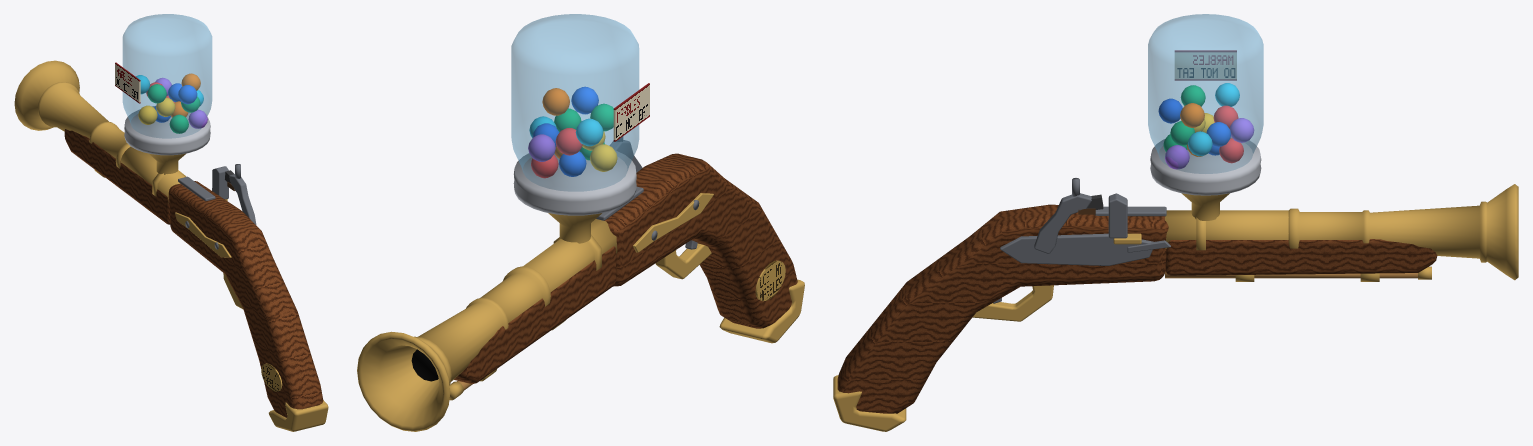
File: w_marbles.glb
3 views of the same model, side by side, from view 1: azimuth 30°, elevation 25°; view 2: azimuth 150°, elevation 25°; view 3: azimuth 270°, elevation 25° (orthographic). The views are drawn at different scales.
Parts seen in each view (by area): view 1: marbles_body_wzA__mb_walnut, marbles_body_wzN__mb_jar, marbles_body_wzB__mb_brass, marbles_body_wzB__mb_zinc, marbles_body_wzB__mb_steel, marbles_body_wzN__mb_marble1, marbles_body_wzN__mb_label, marbles_body_wzN__mb_marble0, marbles_body_wzN__mb_marble3, marbles_body_wzN__mb_marble4, marbles_body_wzN__mb_plaque, marbles_body_wzN__mb_marble5; view 2: marbles_body_wzA__mb_walnut, marbles_body_wzB__mb_brass, marbles_body_wzN__mb_jar, marbles_body_wzB__mb_zinc, marbles_body_wzN__mb_marble0, marbles_body_wzN__mb_label, marbles_body_wzN__mb_marble1, marbles_body_wzN__mb_marble2, marbles_body_wzN__mb_plaque, marbles_body_wzN__mb_marble6, marbles_body_wzB__mb_steel, marbles_body_wzN__mb_marble3 (+3 smaller); view 3: marbles_body_wzA__mb_walnut, marbles_body_wzB__mb_brass, marbles_body_wzN__mb_jar, marbles_body_wzB__mb_steel, marbles_body_wzB__mb_zinc, marbles_body_wzN__mb_label, marbles_body_wzA__mb_ramrod, marbles_body_wzN__mb_marble0, marbles_body_wzN__mb_marble4, marbles_body_wzN__mb_marble6, marbles_body_wzN__mb_marble1, marbles_body_wzN__mb_marble2.
Boxes of the visible parts, x1,y1,x2,y2 form: marbles_body_wzA__mb_walnut: [64, 129, 323, 417]; marbles_body_wzN__mb_jar: [122, 14, 212, 138]; marbles_body_wzB__mb_brass: [14, 60, 328, 431]; marbles_body_wzB__mb_zinc: [124, 106, 210, 155]; marbles_body_wzB__mb_steel: [178, 164, 256, 249]; marbles_body_wzN__mb_marble1: [147, 84, 200, 133]; marbles_body_wzN__mb_label: [115, 62, 140, 103]; marbles_body_wzN__mb_marble0: [154, 83, 197, 122]; marbles_body_wzN__mb_marble3: [138, 97, 175, 124]; marbles_body_wzN__mb_marble4: [155, 77, 207, 128]; marbles_body_wzN__mb_plaque: [261, 363, 282, 391]; marbles_body_wzN__mb_marble5: [170, 73, 200, 117]; marbles_body_wzA__mb_walnut: [454, 153, 797, 384]; marbles_body_wzB__mb_brass: [357, 193, 804, 431]; marbles_body_wzN__mb_jar: [511, 14, 639, 191]; marbles_body_wzB__mb_zinc: [513, 150, 636, 215]; marbles_body_wzN__mb_marble0: [532, 86, 598, 176]; marbles_body_wzN__mb_label: [613, 83, 649, 141]; marbles_body_wzN__mb_marble1: [554, 103, 613, 160]; marbles_body_wzN__mb_marble2: [531, 128, 582, 178]; marbles_body_wzN__mb_plaque: [755, 260, 785, 301]; marbles_body_wzN__mb_marble6: [529, 116, 603, 146]; marbles_body_wzB__mb_steel: [596, 136, 699, 249]; marbles_body_wzN__mb_marble3: [582, 131, 617, 171]; marbles_body_wzA__mb_walnut: [837, 204, 1437, 413]; marbles_body_wzB__mb_brass: [833, 184, 1518, 431]; marbles_body_wzN__mb_jar: [1148, 14, 1263, 173]; marbles_body_wzB__mb_steel: [993, 178, 1170, 303]; marbles_body_wzB__mb_zinc: [1150, 136, 1261, 195]; marbles_body_wzN__mb_label: [1174, 50, 1236, 80]; marbles_body_wzA__mb_ramrod: [1165, 271, 1417, 278]; marbles_body_wzN__mb_marble0: [1158, 98, 1230, 155]; marbles_body_wzN__mb_marble4: [1165, 118, 1254, 169]; marbles_body_wzN__mb_marble6: [1187, 83, 1239, 156]; marbles_body_wzN__mb_marble1: [1163, 85, 1205, 151]; marbles_body_wzN__mb_marble2: [1213, 105, 1243, 163].
Bounding box in the file's own units: 0.0826 × 0.3036 × 0.482.
18 materials, 3 textured.
